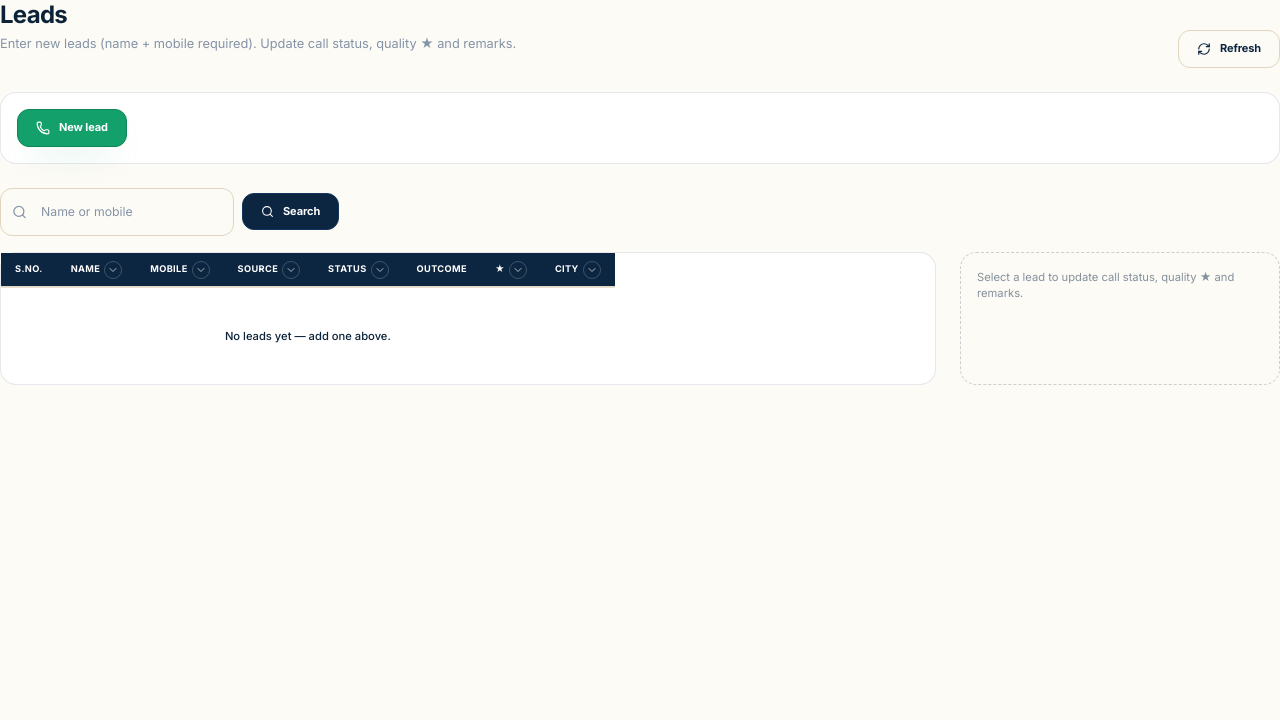
Test: empty states › says the filter matched nothing, and clears it on request
Expected: the text "No leads yet — add one above." is shown, [225, 329, 391, 343]
Step 1. Click the button named "Filter Name" → x=113, y=270, box [104, 261, 122, 279]
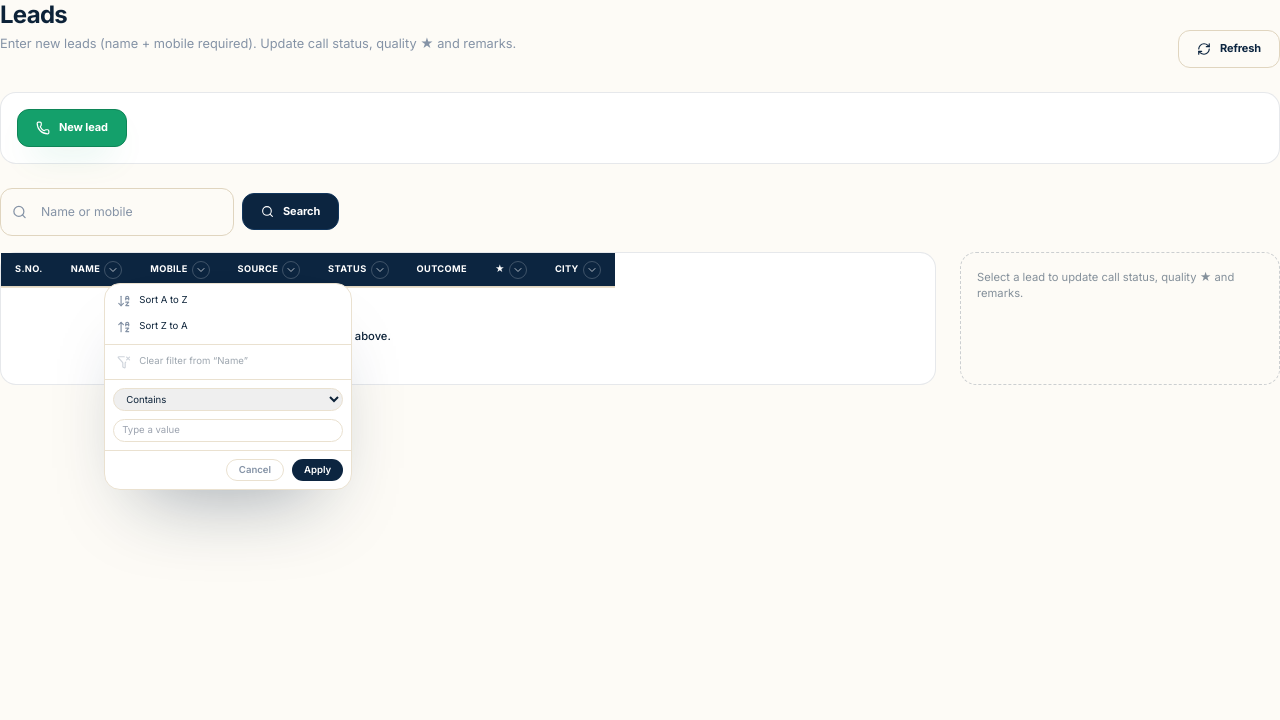
Step 2. Type "zzz" into the field named "Name contains" → x=228, y=430, box [113, 419, 343, 442]
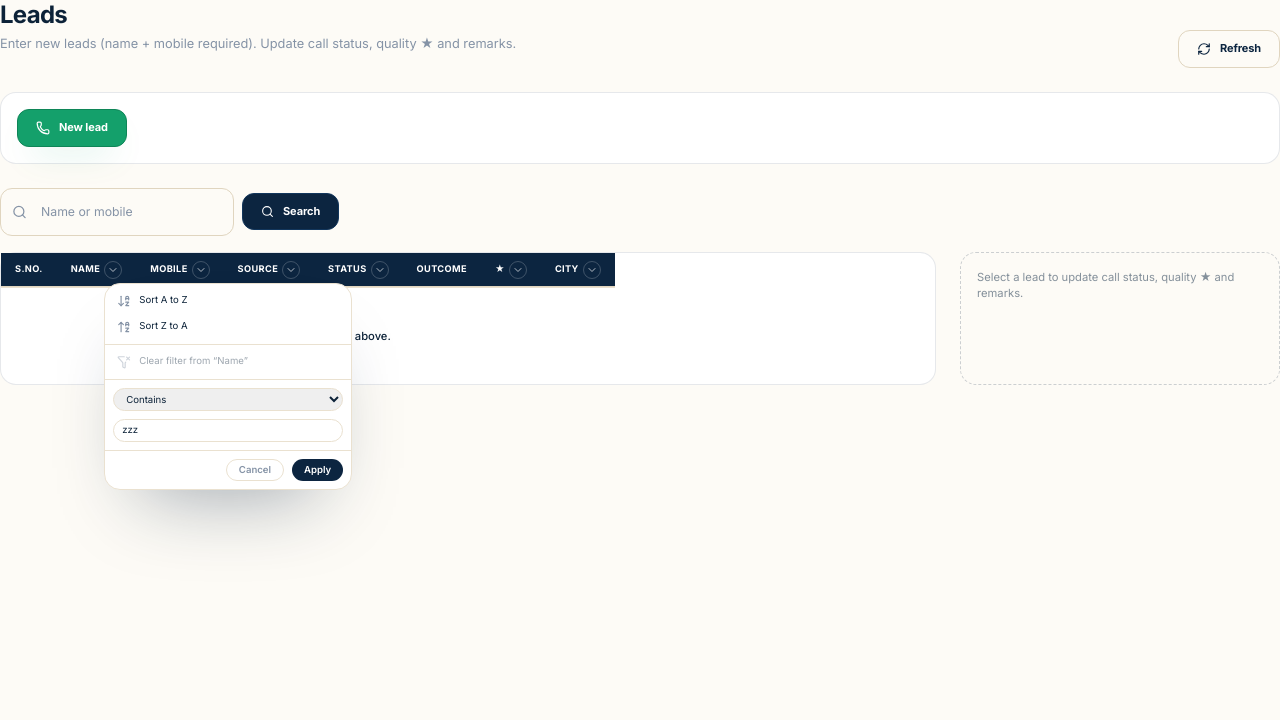
Step 3. Click the button "Apply" → x=318, y=470, box [292, 459, 343, 481]
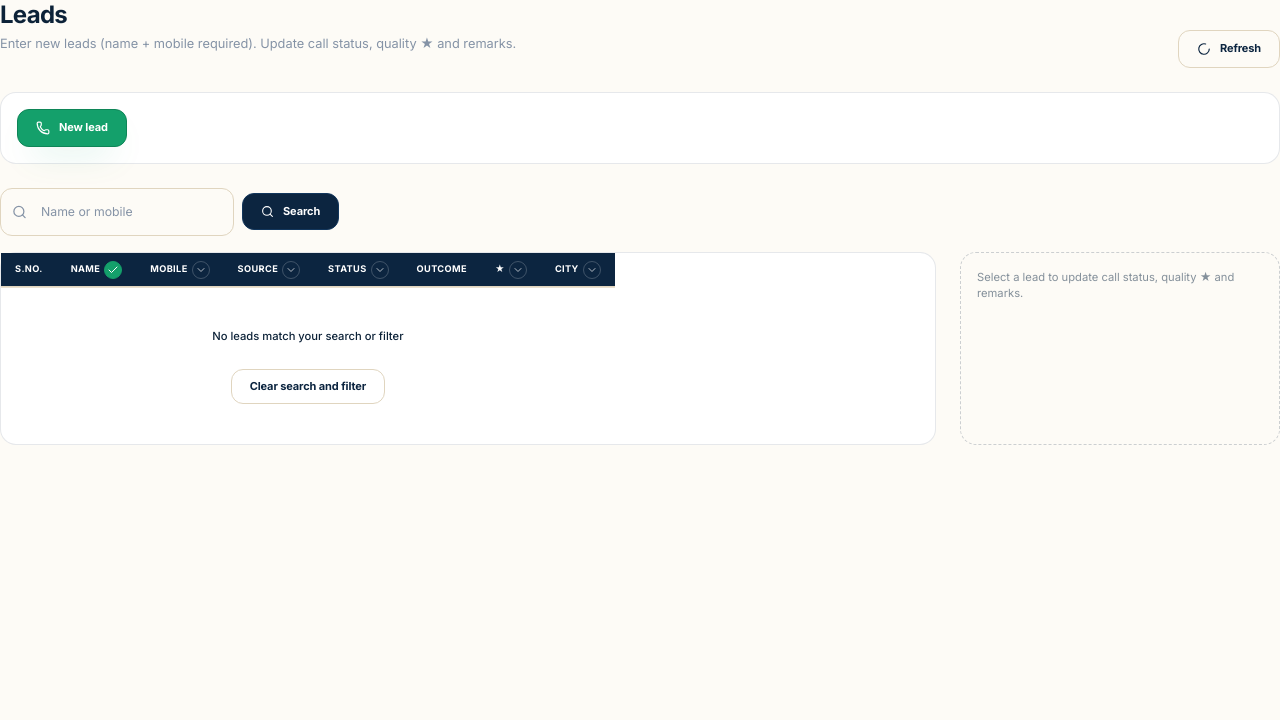
Now the text "No leads match your search or filter" is shown, box [212, 329, 403, 343]
Now the text "No leads yet — add one above." is gone
Step 4. Click the button "Clear search and filter" → x=308, y=387, box [231, 369, 385, 404]
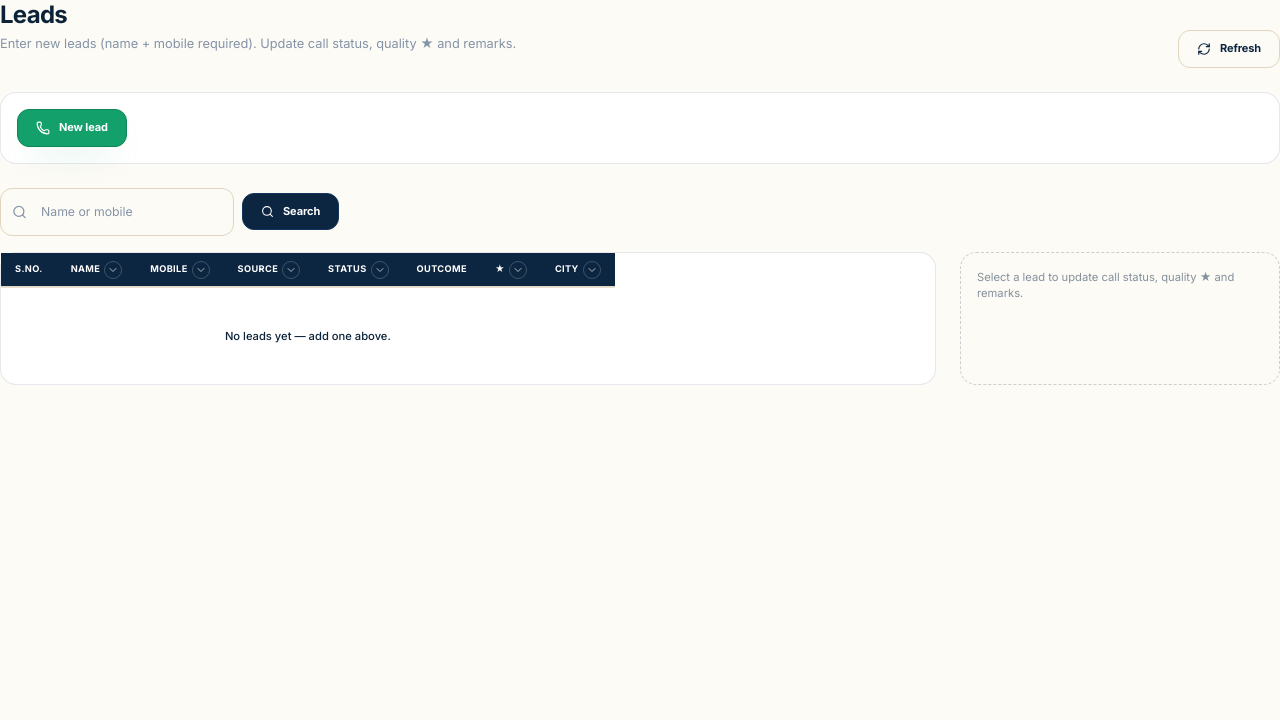
Now the text "No leads yet — add one above." is shown, box [225, 329, 391, 343]
